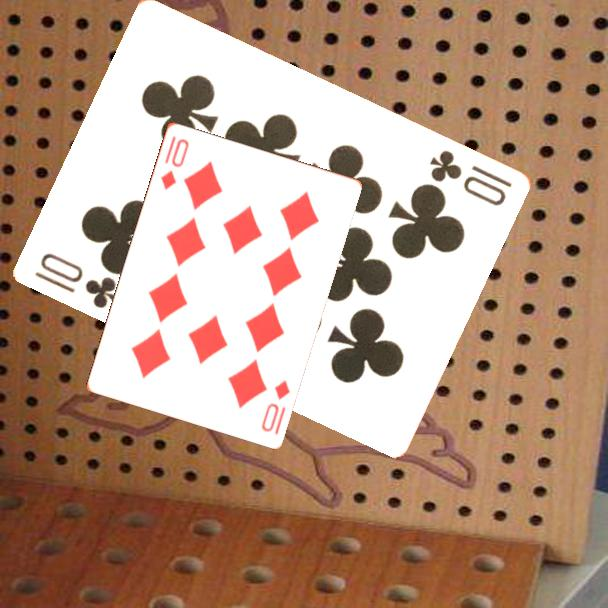c10: (426, 146, 516, 209), (32, 248, 121, 311)
d10: (257, 376, 293, 437), (156, 135, 192, 192)
